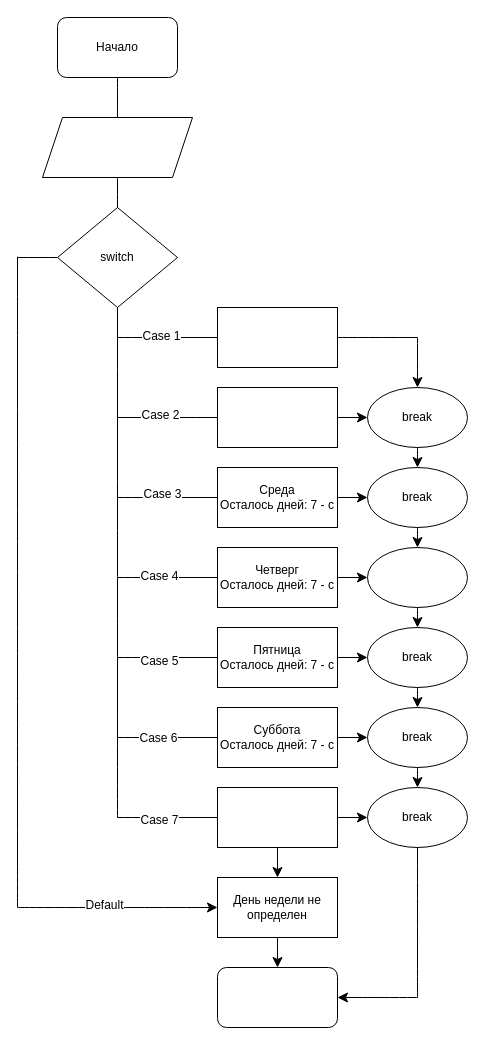
The diagram is 485 pixels wide and 1045 high, and some of its shapes have lost their labels. The shapes that lost their labels are listed below. From the top down, each one's centre as x and y in pixels, then its label:
the point at 117,147: int c
the point at 277,337: Понедельник Осталось дней: 7 - с
the point at 277,417: Вторник Осталось дней: 7 - с
the point at 417,577: бreak
the point at 277,817: Воскресенье Осталось дней: 7 - с
the point at 277,997: Конец
